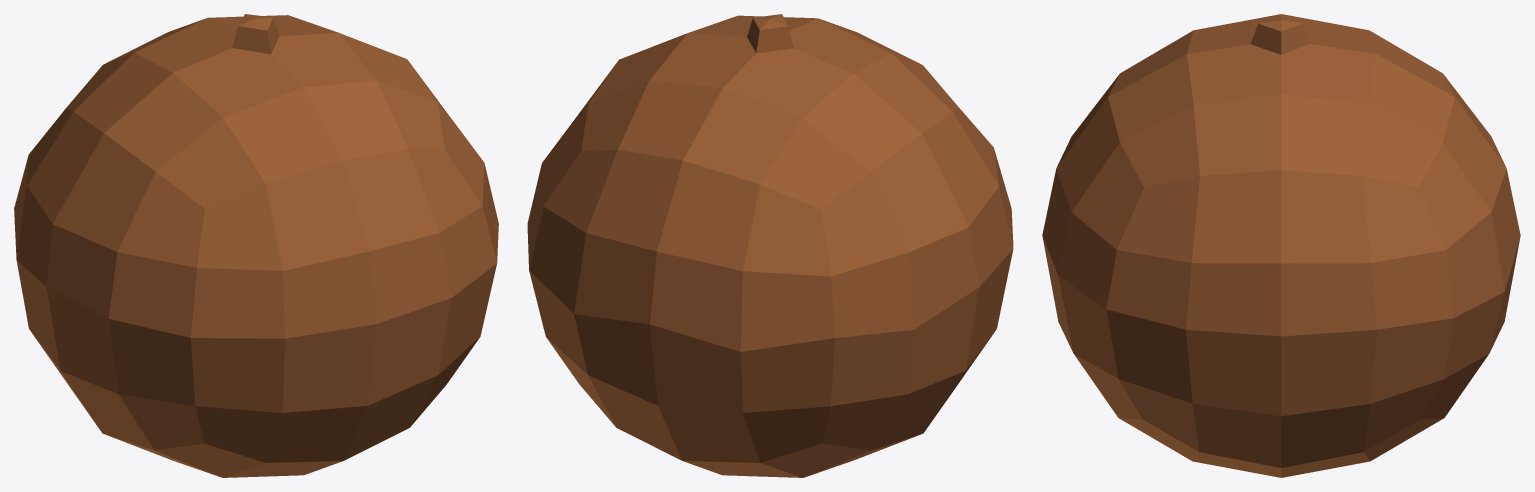
The model's file is food-Orange.glb.
3 views of the same model, side by side, from view 1: azimuth 30°, elevation 25°; view 2: azimuth 150°, elevation 25°; view 3: azimuth 270°, elevation 25° (orthographic).
Visible parts, largest first — view 1: Orange; view 2: Orange; view 3: Orange.
Part boxes in pixels (box(x1,y1,x2,y2)): Orange: box(14, 14, 498, 477); Orange: box(527, 14, 1013, 477); Orange: box(1042, 14, 1520, 477).
Size of the model in its own units: 0.7449 by 0.7425 by 0.7449.
